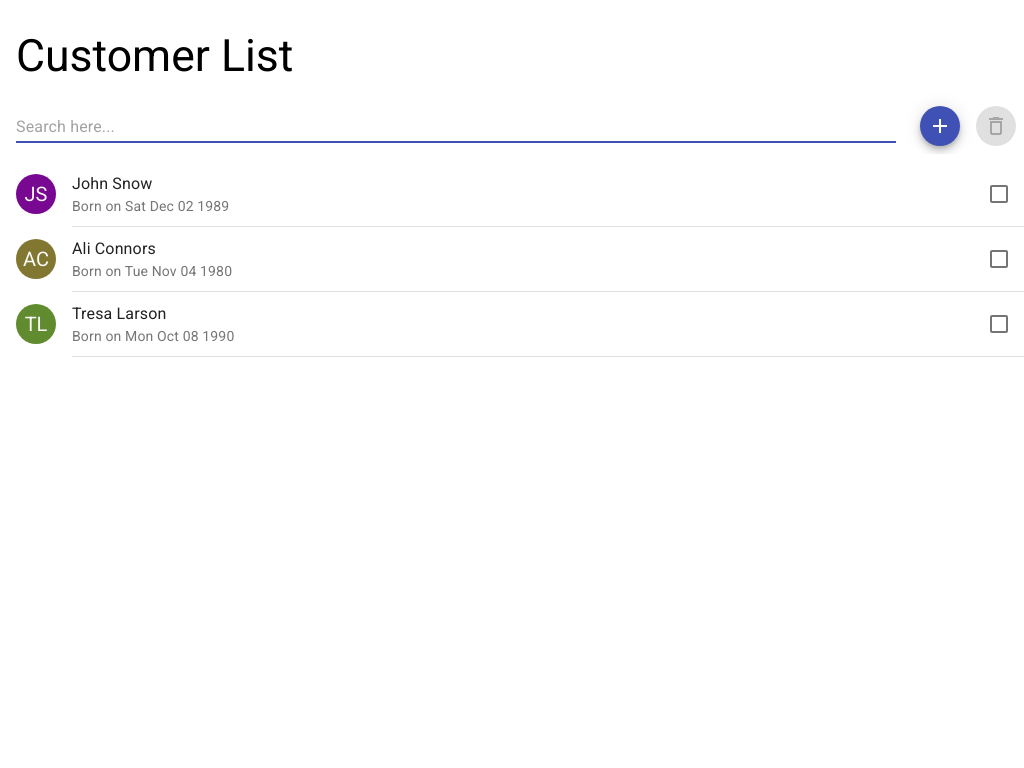
Scenario: CustomerList › renders blank customer detail dialog upon clicking on Add btn
Click the button with test id "addCustomerBtn" at (940, 126), box [920,106,960,146]
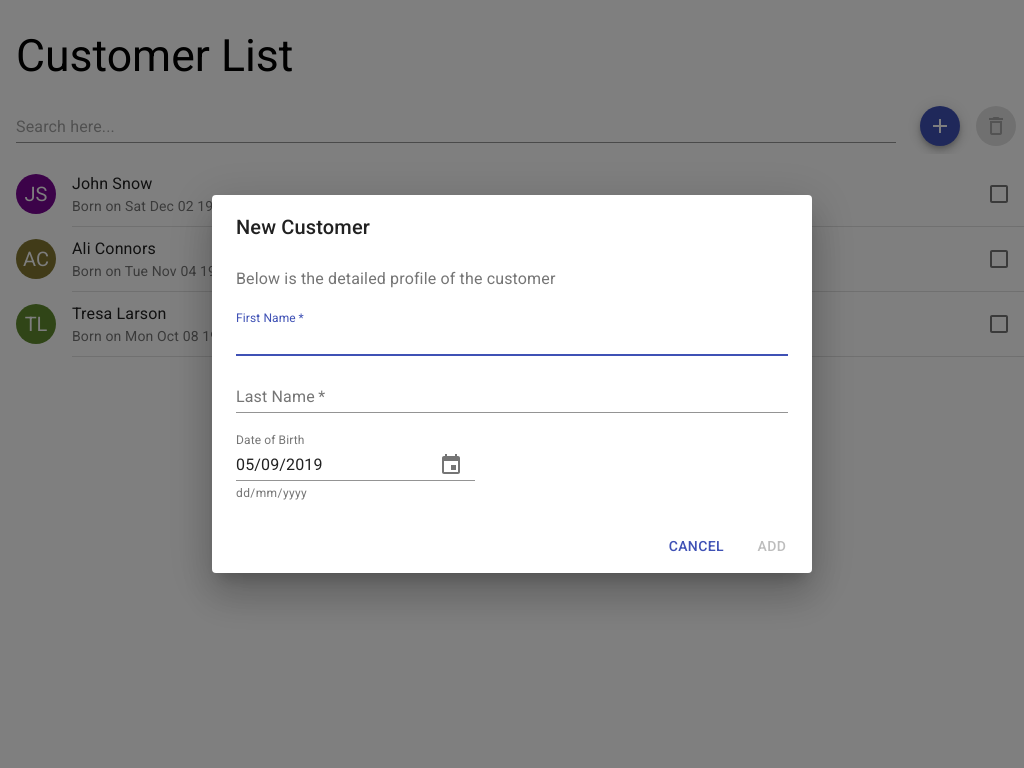
Expected: the field with id "firstName" is empty, [236,327,788,356]
Now the element with test id "customerDetailDialog" is shown
Now the field with id "lastName" is empty, box [236,384,788,413]
